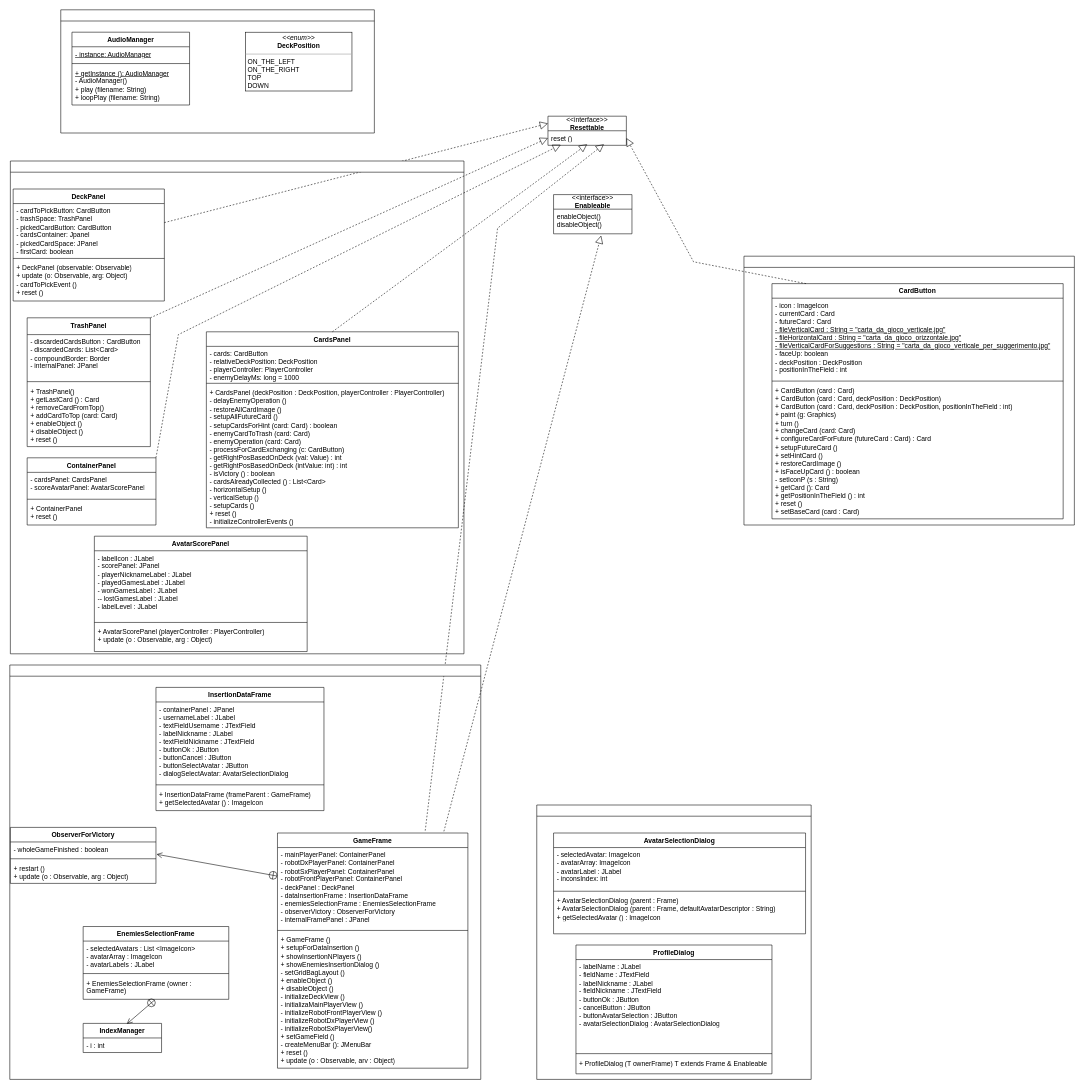
Image size: 1084x1089. Some labels were removed from this diagram. The centre of each missing label's shape, as x and y in pixels:
view.button: pixel 908 390
view.dialog: pixel 673 941
view.frame: pixel 245 871
view.panel: pixel 237 407
view.utils: pixel 217 71
